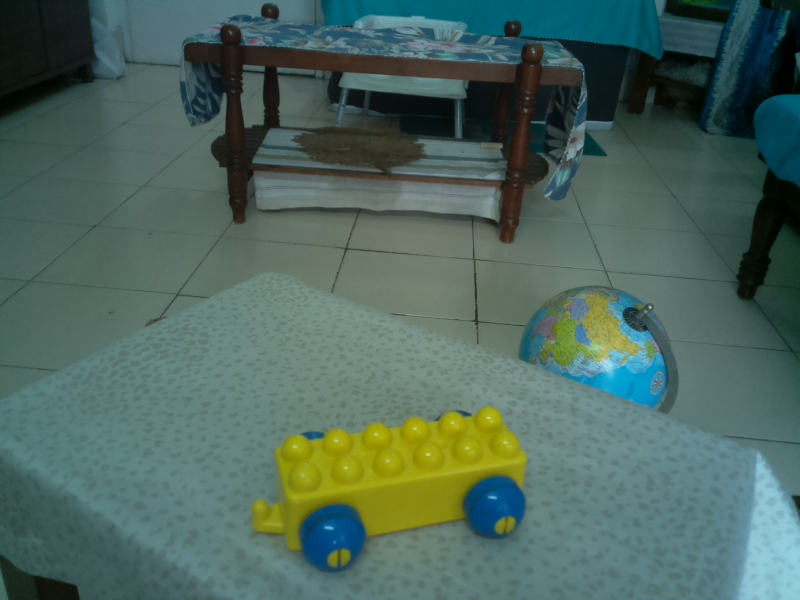toy_Car: (247, 403, 533, 577)
